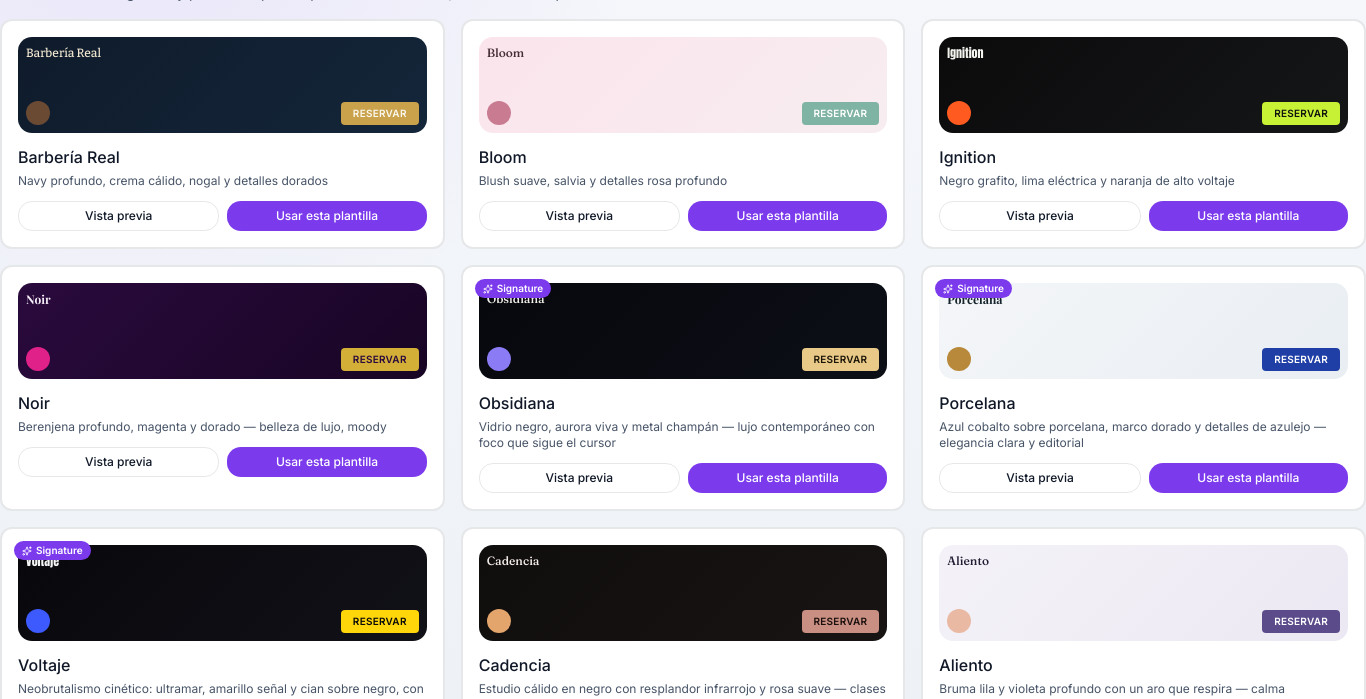
Test: PremiumTemplateSelector › "Descartar" drops the pending choice without calling the API
Click the 1st button "Usar esta plantilla".
click(327, 216)  # box 227,201 -> 427,231
(page scrolled)
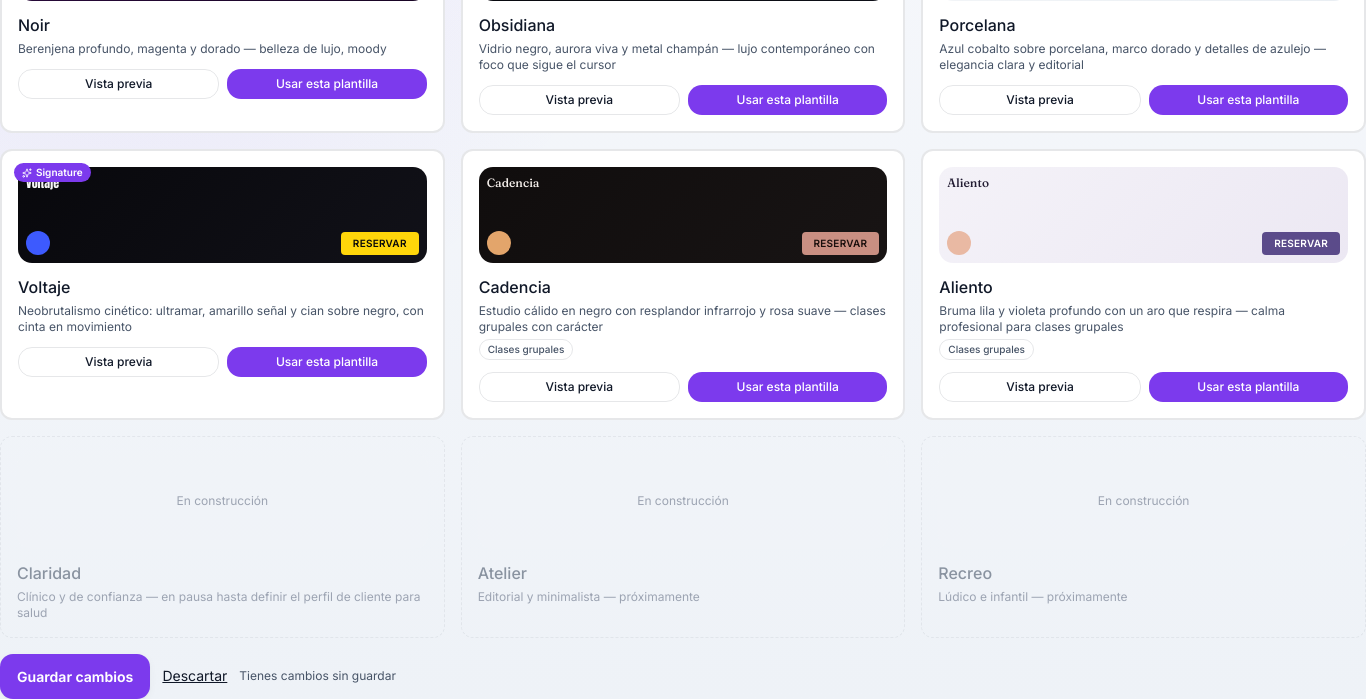
Click the button "Descartar".
click(195, 676)  # box 162,666 -> 227,686
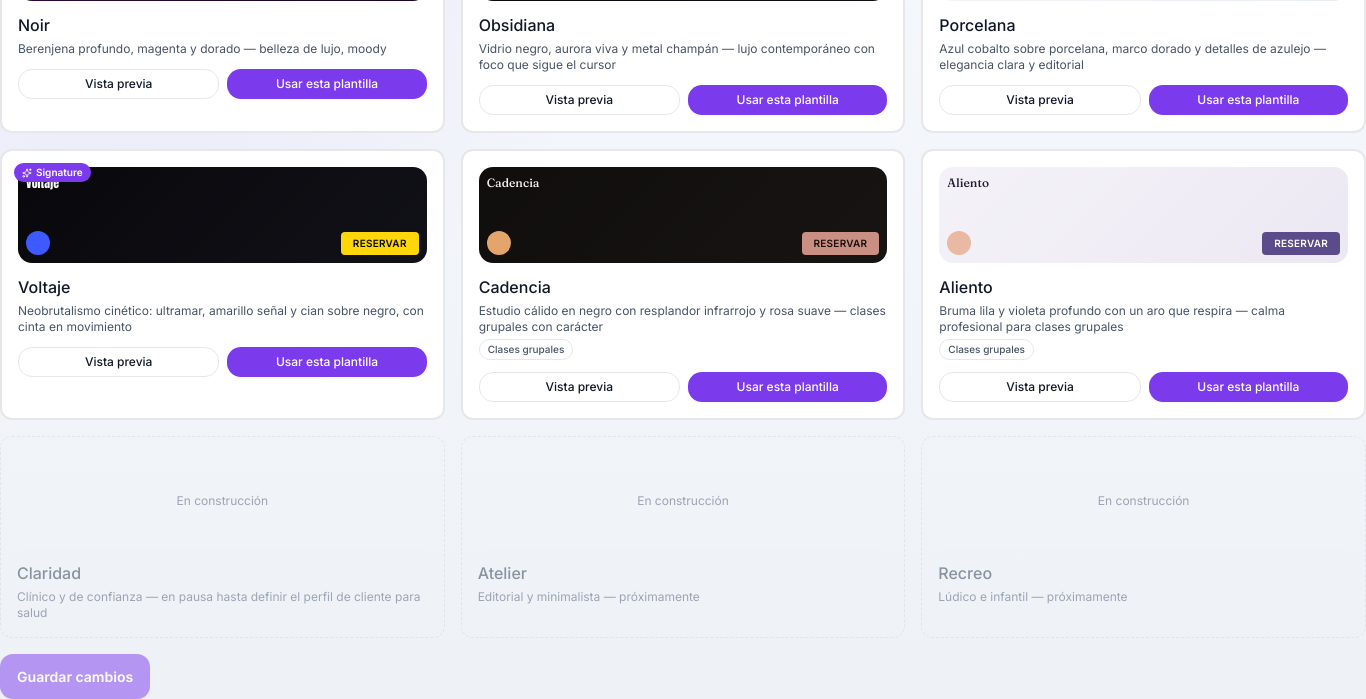
Result: the button "Guardar cambios" is disabled at 0,654 -> 150,698
